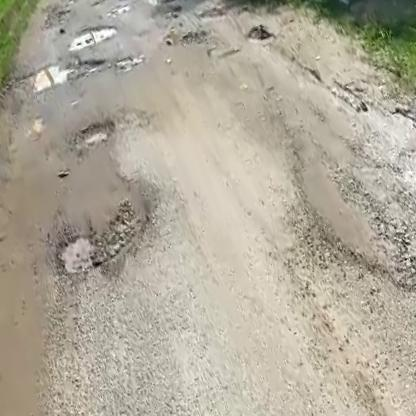pothole: (49, 210, 148, 281), (65, 17, 120, 55), (26, 56, 78, 95), (67, 114, 117, 151)
